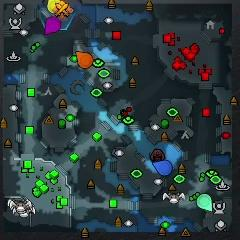Other: (52, 0, 73, 19)
p1: (154, 159, 173, 175)
p2: (197, 194, 212, 213)
p3: (44, 16, 60, 34)
p4: (48, 0, 62, 14)
p5: (76, 51, 92, 69)
